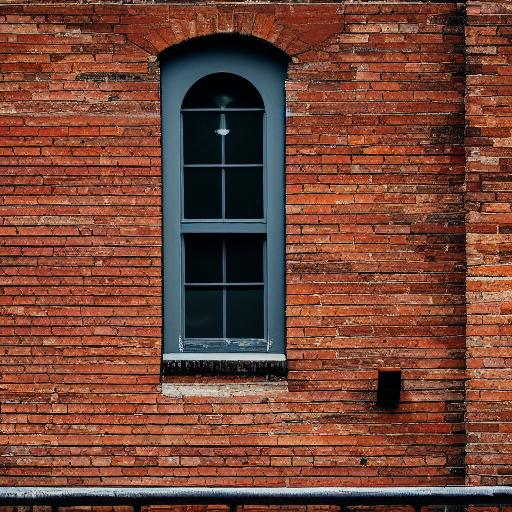Window: (149, 14, 306, 400)
